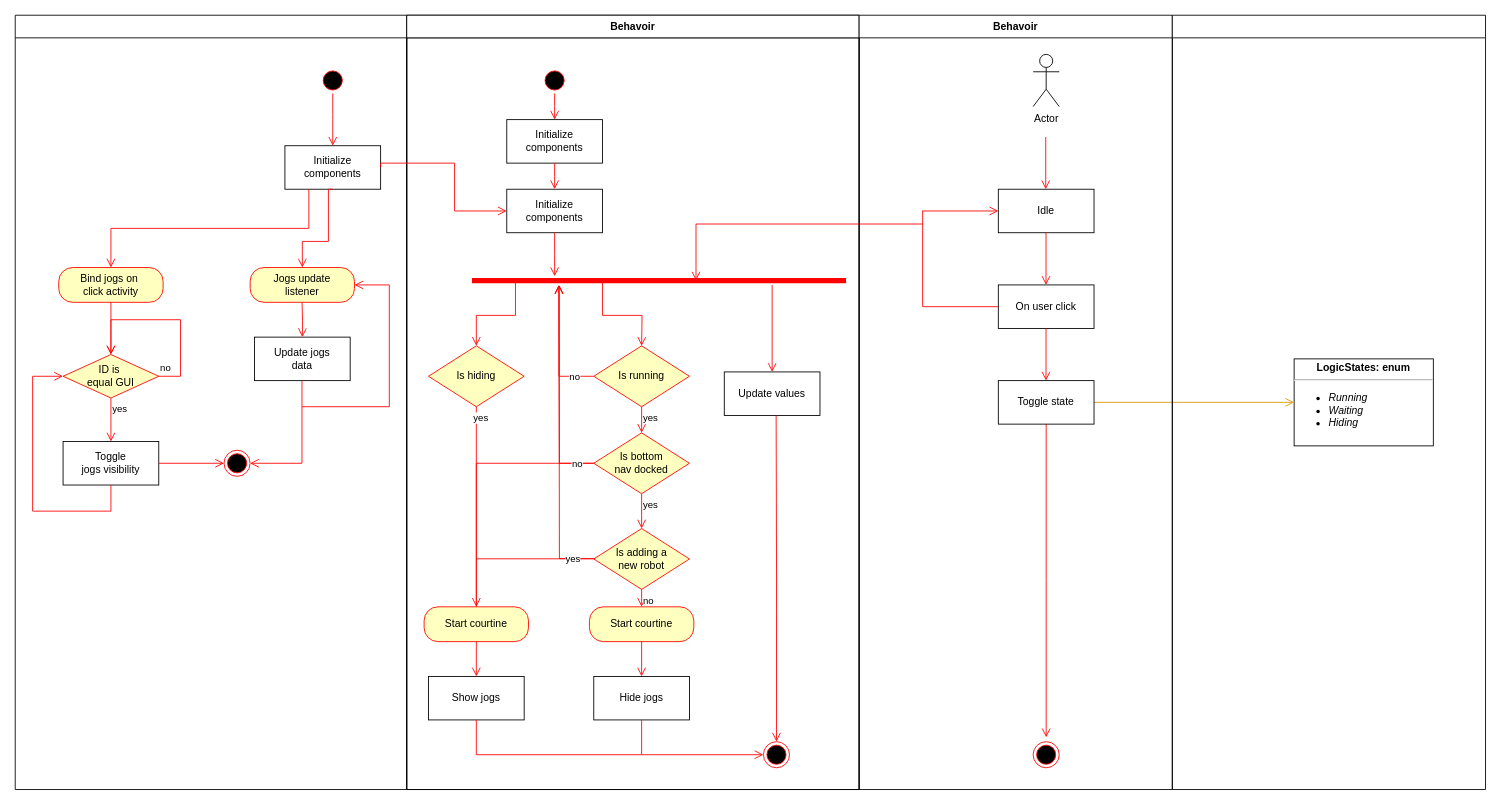
Image size: 1501x805. Some labels were removed from this diagram. Each missing label, with the centre of its shape:
Controller: (210,402)
Notes: (1328,402)
